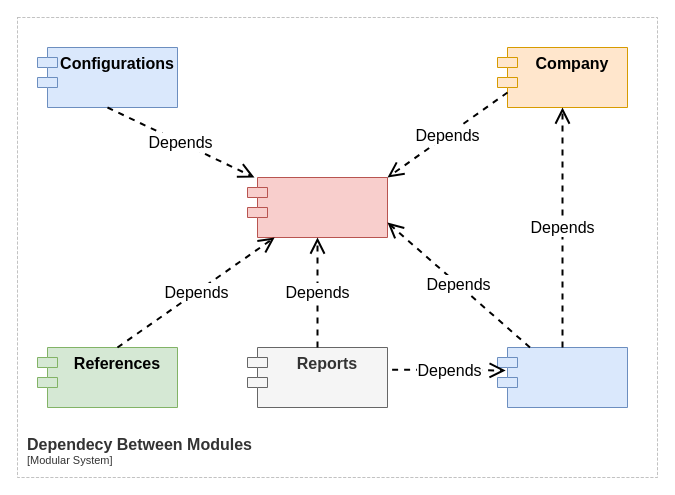
This 675x495 diagram has some shape labels left out. Each missing label, with the centre of its shape:
Authentication: pixel 317 207
Employees: pixel 562 377
